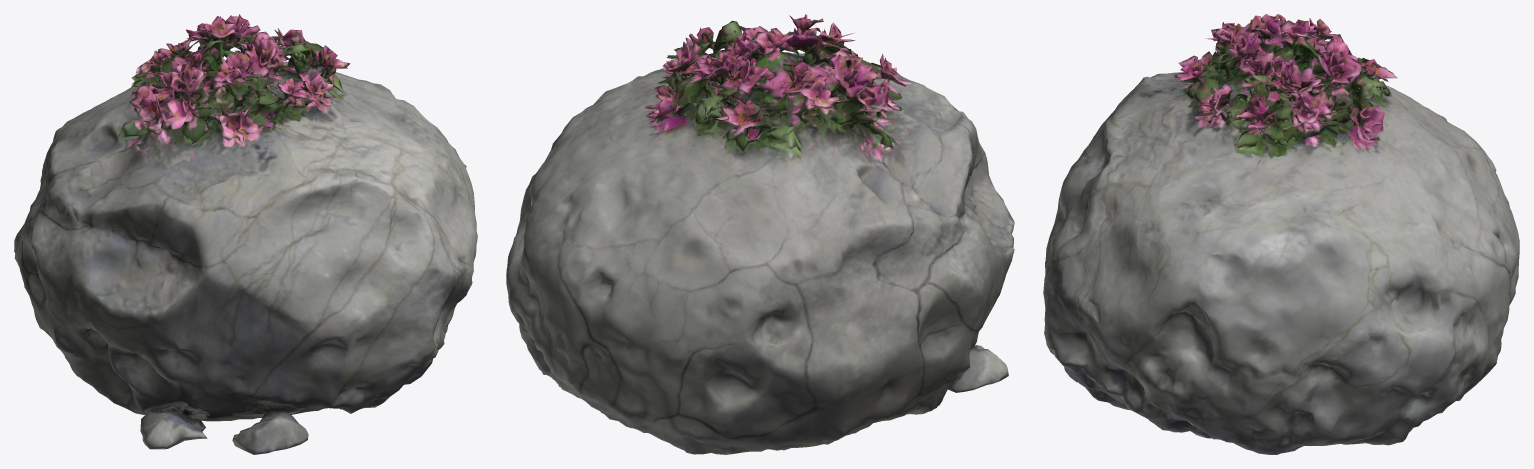
Rendered from a_giant_boulder_with__0610154554_texture.fbx.
3 renders of one model, left to right at view 1: azimuth 30°, elevation 25°; view 2: azimuth 150°, elevation 25°; view 3: azimuth 270°, elevation 25°, orthographic. The views are drawn at different scales.
Parts seen in each view (by area): view 1: Mesh1; view 2: Mesh1; view 3: Mesh1.
Boxes of the visible parts, x1,y1,x2,y2 form: Mesh1: (14, 14, 477, 454); Mesh1: (506, 14, 1014, 454); Mesh1: (1043, 14, 1519, 454).
Bounding box in the file's own units: 200 × 166 × 201.
1 material, 1 textured.
